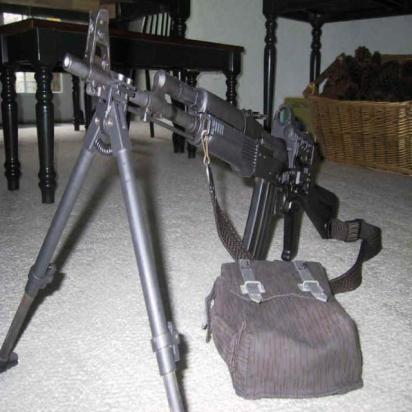Gun: (62, 6, 340, 277)
